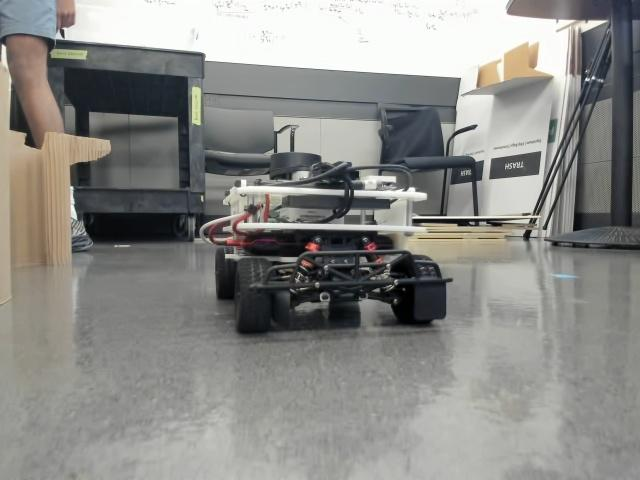Car: (214, 153, 451, 336)
